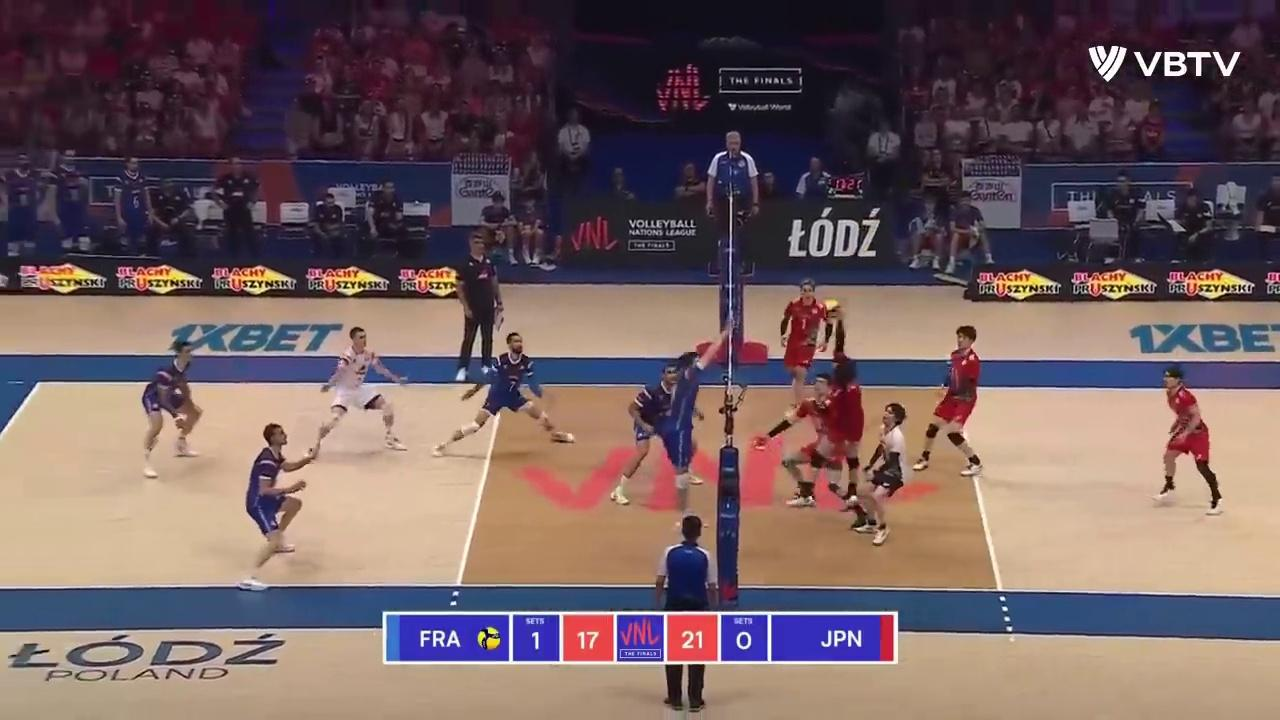ball: (823, 300, 843, 322)
